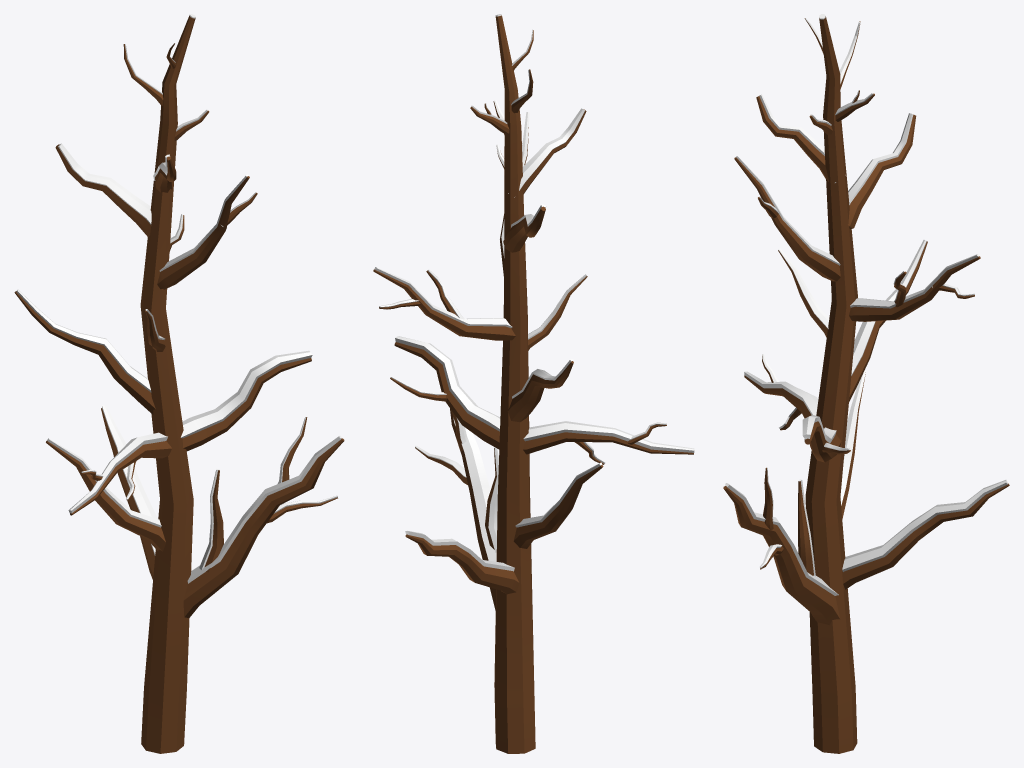
File: DEAD TREE 3.fbx
3 views of the same model, side by side, from view 1: azimuth 30°, elevation 25°; view 2: azimuth 150°, elevation 25°; view 3: azimuth 270°, elevation 25° (orthographic). The views are drawn at different scales.
Visible parts, largest first — view 1: DEAD TREE 3; view 2: DEAD TREE 3; view 3: DEAD TREE 3.
Boxes of the visible parts, left/top/right/bottom form: DEAD TREE 3: left=14, top=14, right=344, bottom=753; DEAD TREE 3: left=373, top=14, right=694, bottom=753; DEAD TREE 3: left=723, top=14, right=1009, bottom=753.
Size of the model in its own units: 225 by 568 by 199.
